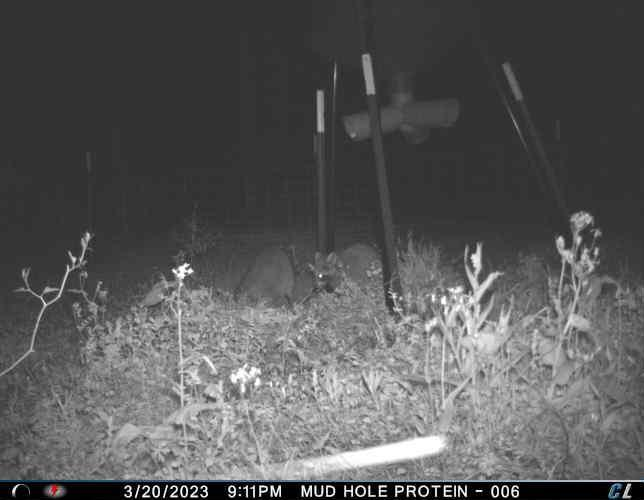Raccoon: (314, 244, 386, 302), (236, 246, 298, 309)
